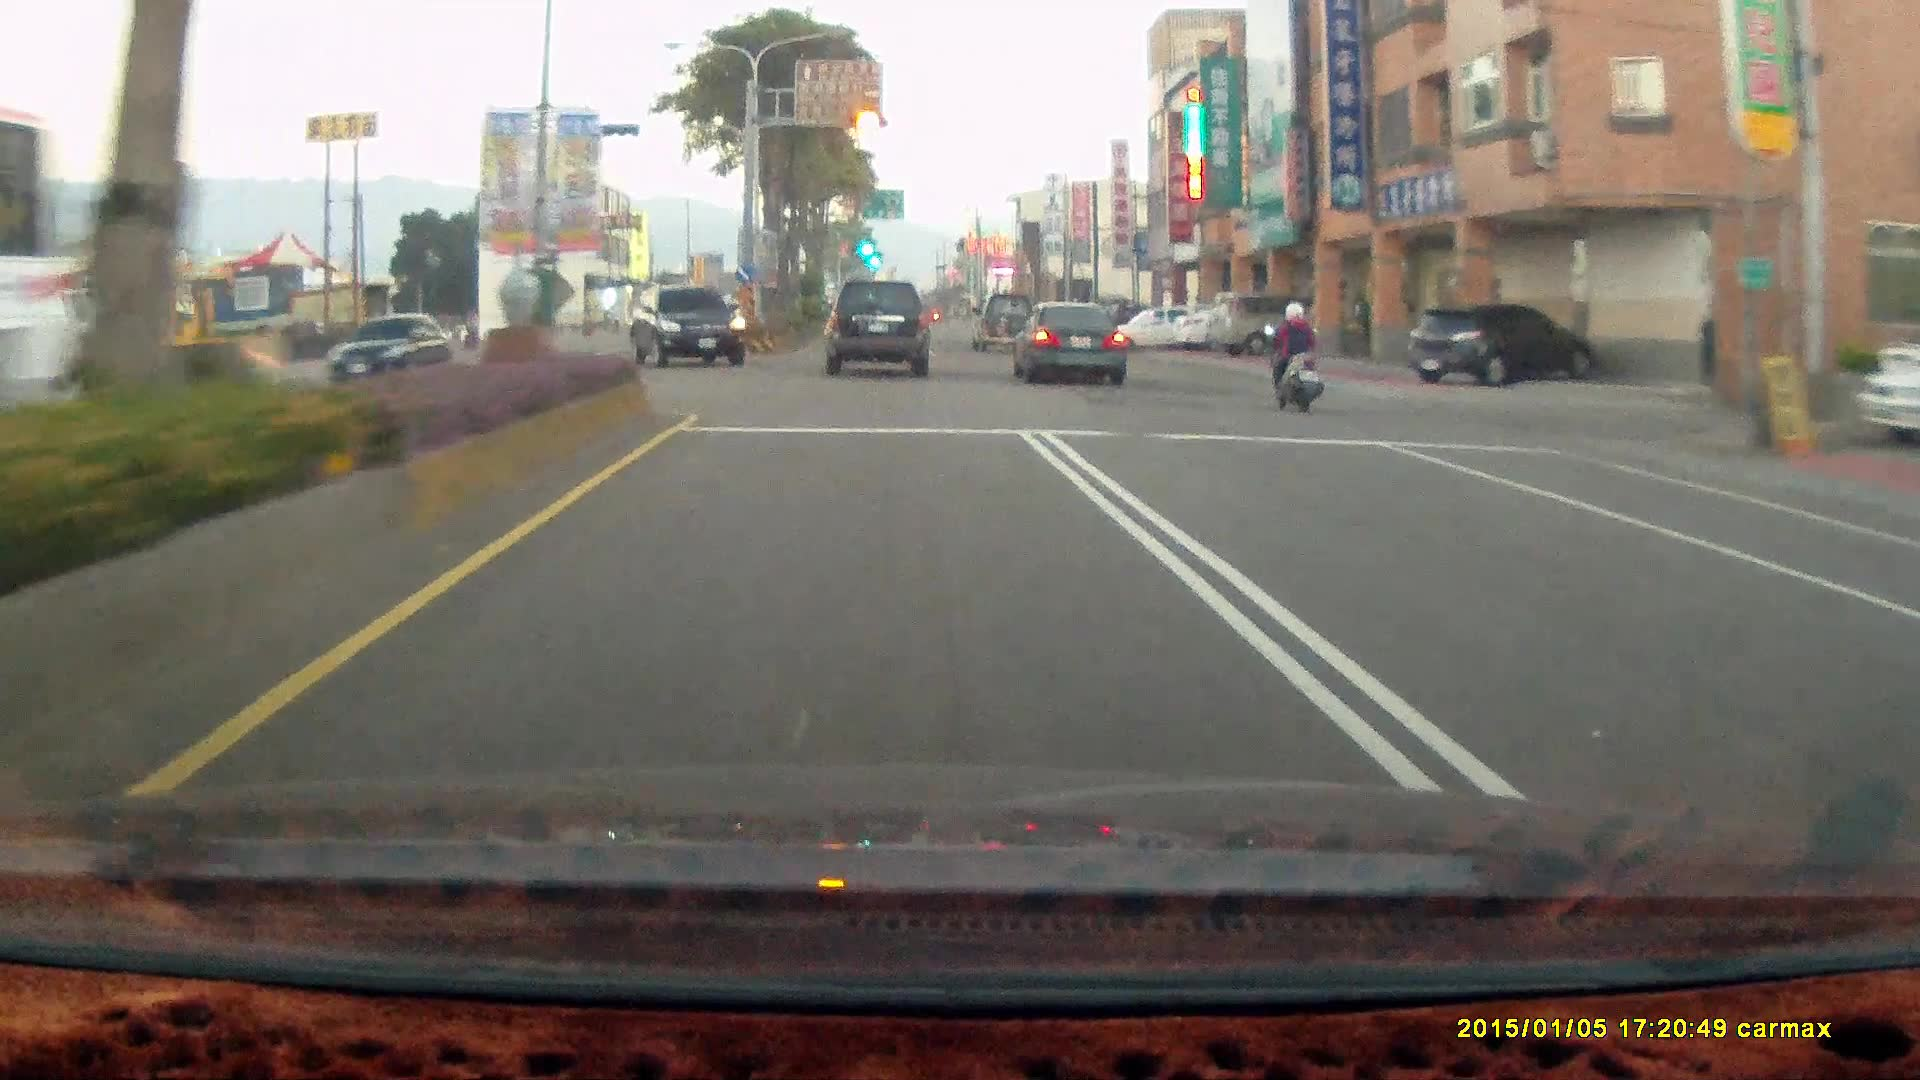pedestrian: (1348, 290, 1373, 356)
rider: (1257, 294, 1334, 419), (1268, 299, 1327, 411)
vehicle: (0, 111, 60, 453), (1404, 300, 1597, 385), (1409, 303, 1605, 385), (823, 281, 931, 378), (823, 279, 929, 376), (1008, 297, 1125, 382), (1010, 302, 1128, 383), (630, 286, 750, 364), (330, 309, 448, 386), (629, 285, 748, 363), (329, 308, 447, 385), (1203, 289, 1333, 356), (1203, 289, 1321, 359), (1114, 299, 1223, 354), (1853, 356, 1919, 442), (1109, 304, 1218, 352), (969, 289, 1037, 351)
